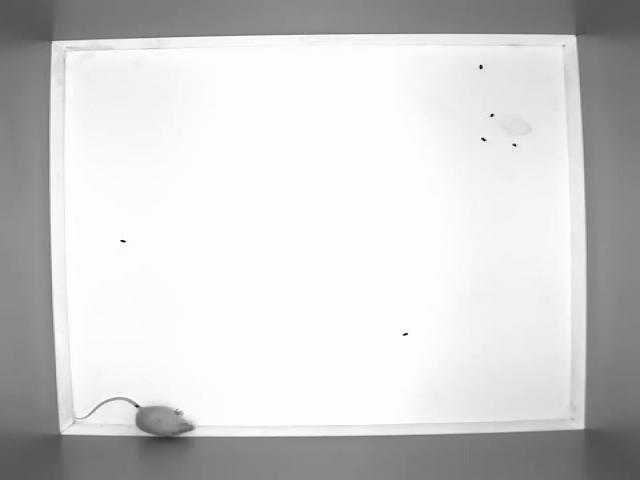Tikus: (72, 391, 200, 439)
